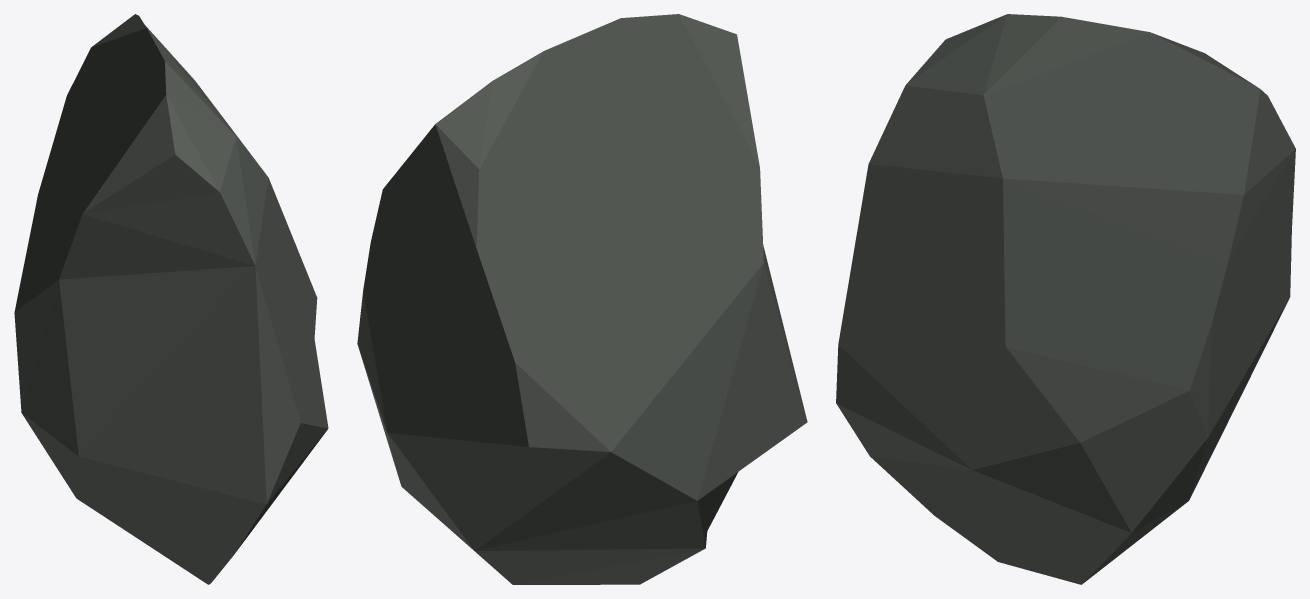
File: Asteroid low poly 1.glb
3 renders of one model, left to right at view 1: azimuth 30°, elevation 25°; view 2: azimuth 150°, elevation 25°; view 3: azimuth 270°, elevation 25°, orthographic. The views are drawn at different scales.
Parts seen in each view (by area): view 1: Cube; view 2: Cube; view 3: Cube.
Part boxes in pixels (x1,y1,x2,y2): Cube: [14, 14, 328, 584]; Cube: [357, 14, 807, 584]; Cube: [836, 14, 1295, 584].
Bounding box in the file's own units: 6.78 × 11.48 × 8.89.
1 material, 1 textured.
